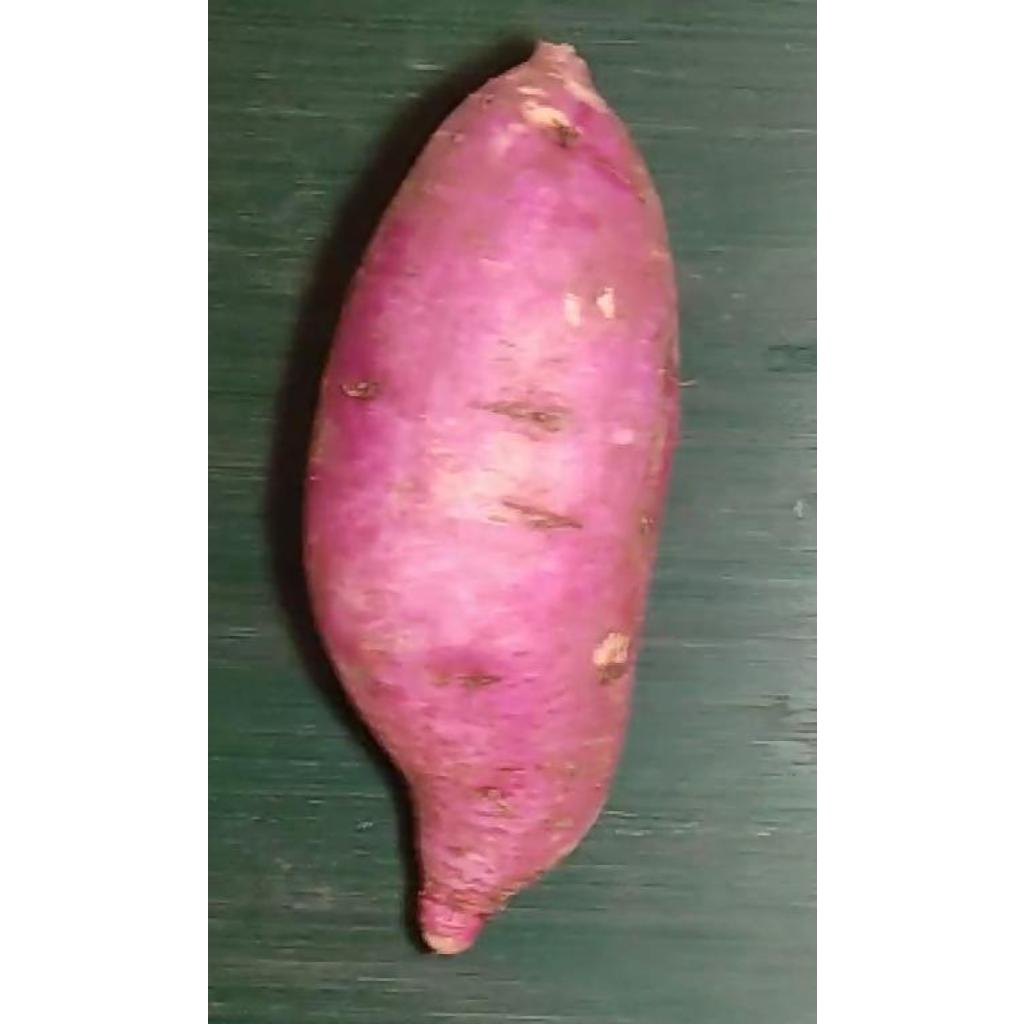Sweet Potato: (306, 42, 680, 961)
